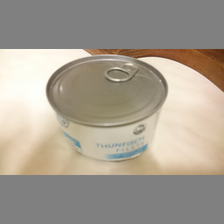fish: (45, 54, 168, 162)
